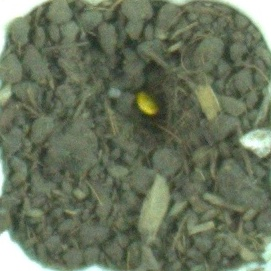pepper seed: (51, 30, 215, 148)
